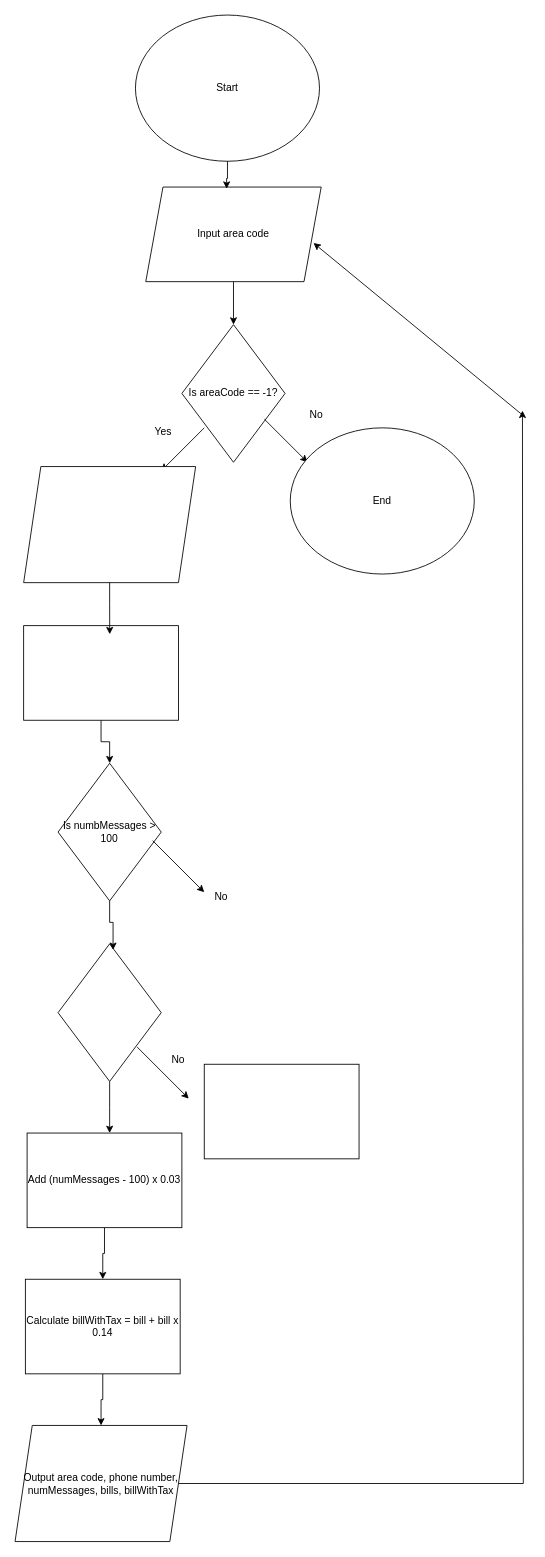
The diagram is 545 pixels wide and 1557 high, and some of its shapes have lost their labels. Each missing label, with the centre of its shape:
Add (200 x 0.03) + (numMessages - 300) x 0.02: (x=281, y=1111)
Input phone number, number of messages: (x=109, y=524)
numMessages <= 300?: (x=109, y=1012)
Set bill = 5.00: (x=100, y=672)
